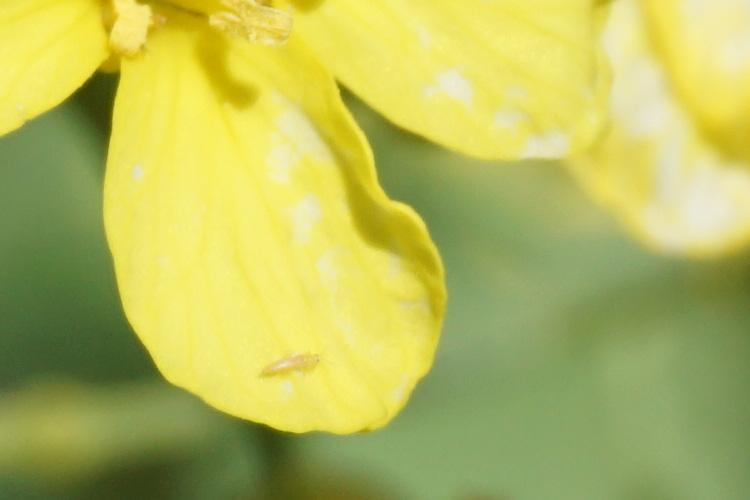yellow: (6, 3, 615, 432)
